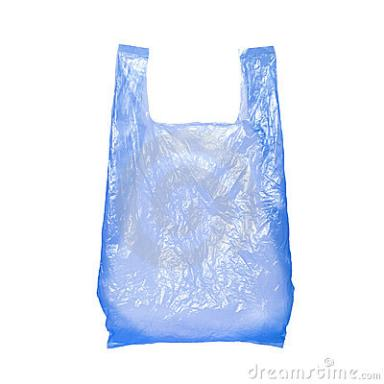plasticbag: (94, 36, 298, 350)
